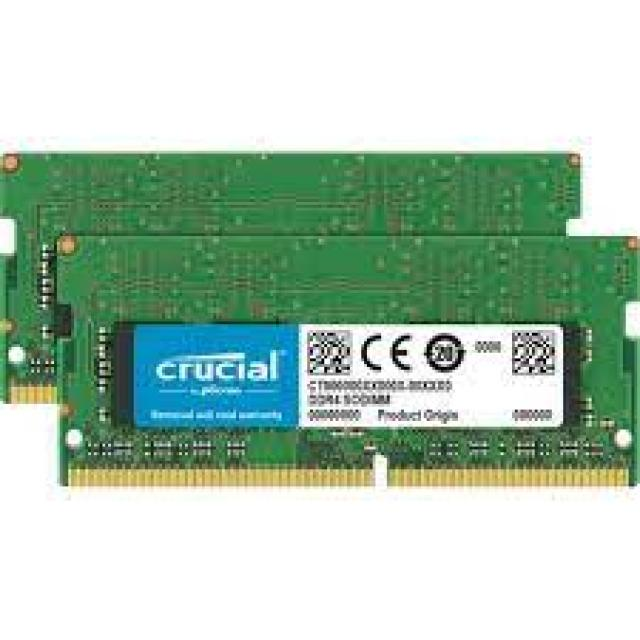Ram: (40, 134, 620, 544)
